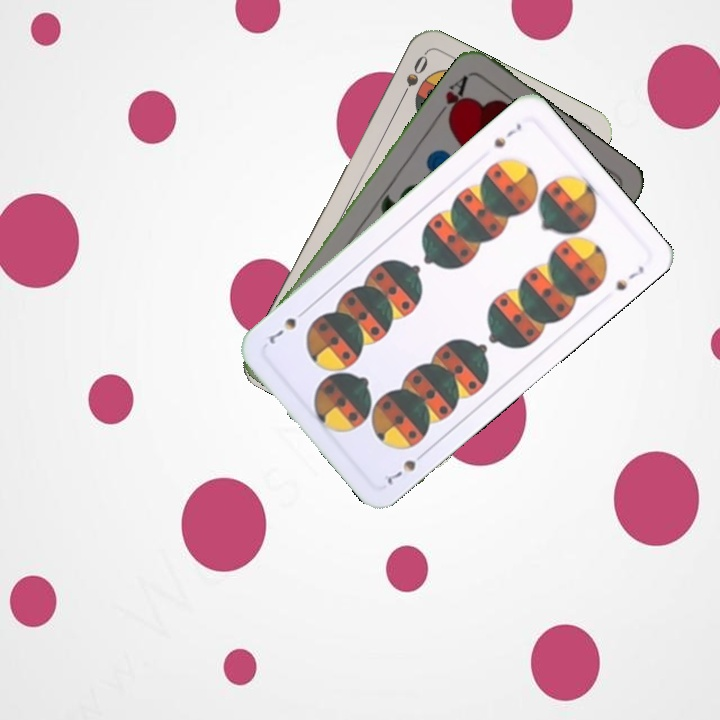HA: (432, 71, 471, 125)
S7: (379, 446, 430, 490), (489, 119, 524, 150)
SO: (395, 51, 431, 105)
